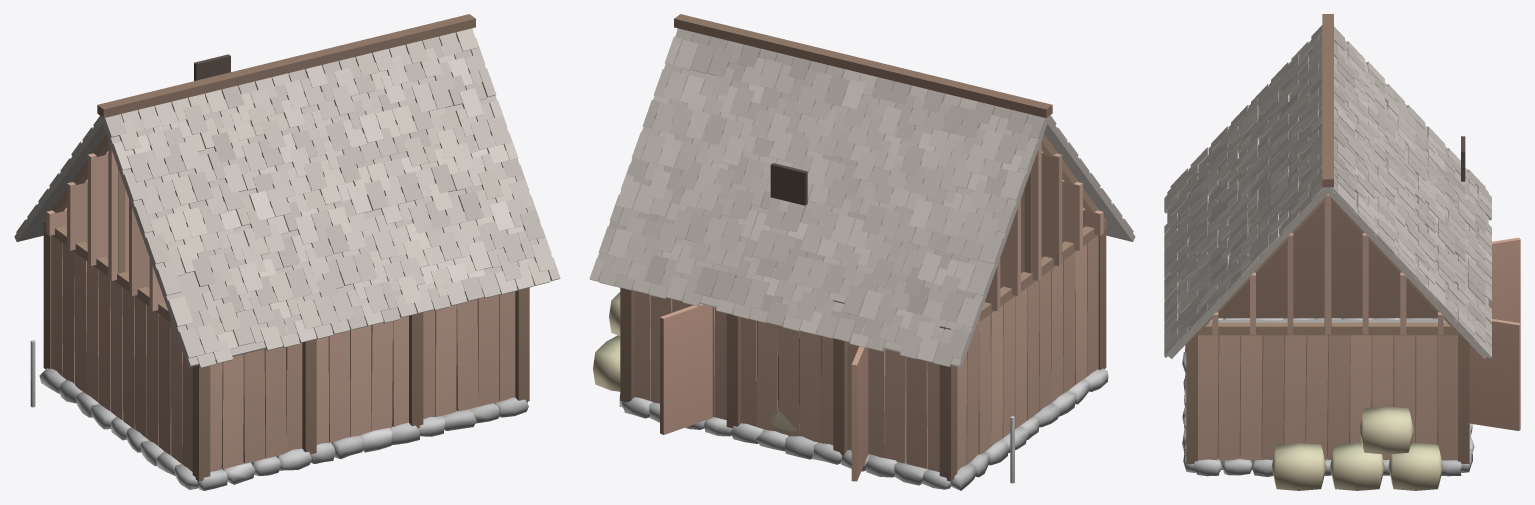
File: hw_medieval_barn.glb
The picture shows the model from 3 angles, left to right: view 1: azimuth 30°, elevation 25°; view 2: azimuth 150°, elevation 25°; view 3: azimuth 270°, elevation 25°; orthographic projection. The views are drawn at different scales.
Visible parts, largest first — view 1: Building; view 2: Building; view 3: Building.
Boxes of the visible parts, bbox=[...] form: Building: bbox=[14, 14, 560, 490]; Building: bbox=[589, 14, 1135, 490]; Building: bbox=[1164, 14, 1520, 490].
Bounding box in the file's own units: 5.98 × 4.62 × 4.88.
